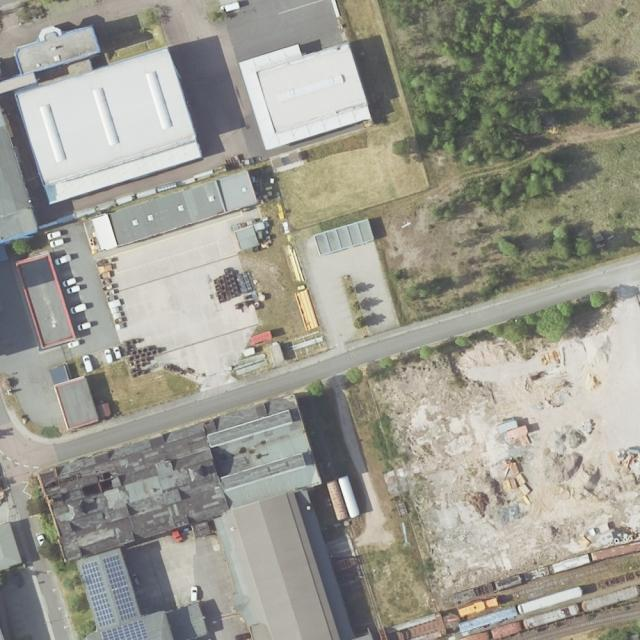PV: (103, 553, 136, 620), (81, 561, 114, 627), (99, 619, 148, 640)
